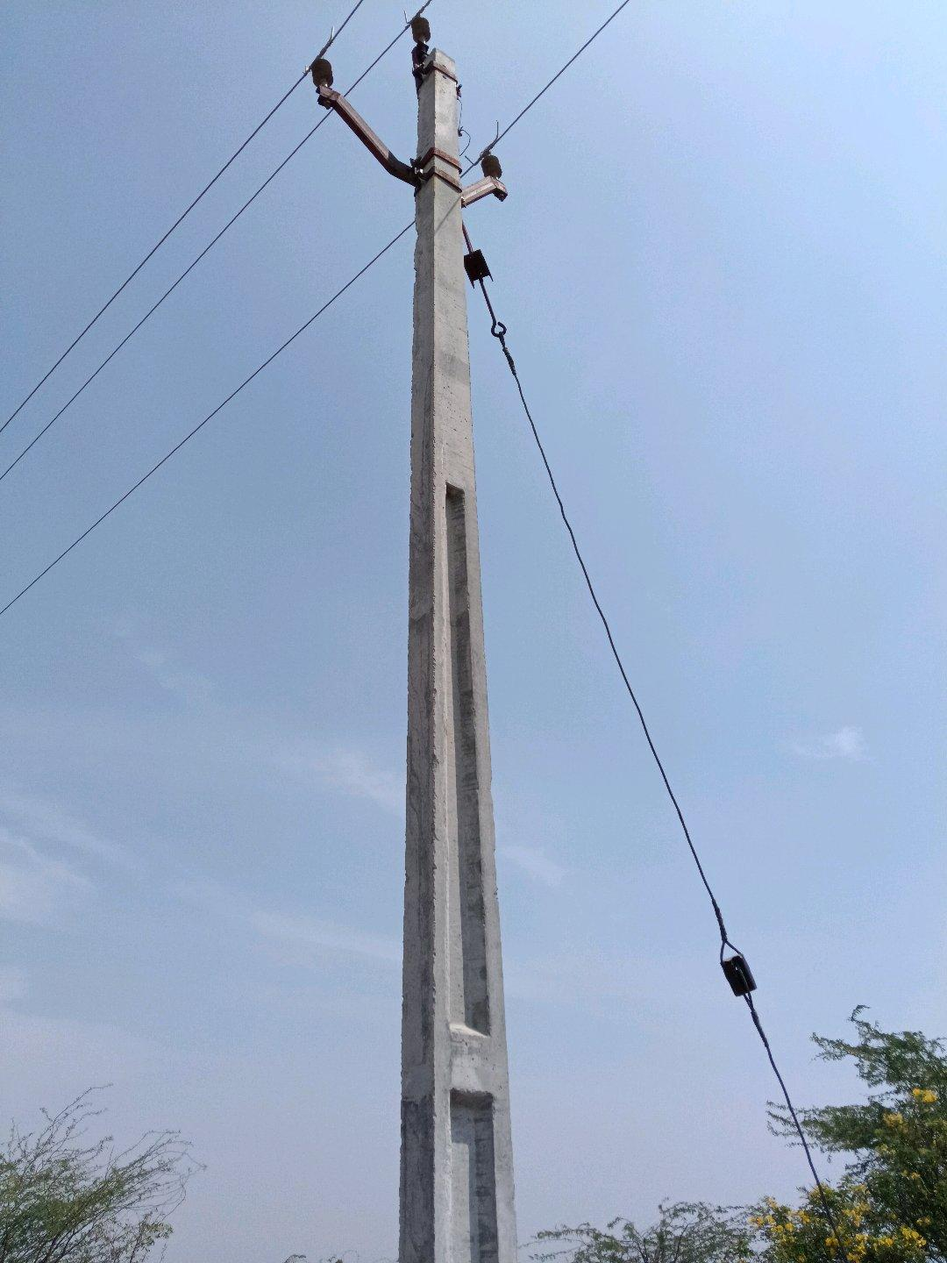{"0" "insulator", "1" "pole", "2" "crossarm", "3" "conductor", "4" "street_: (310, 17, 518, 1262)
